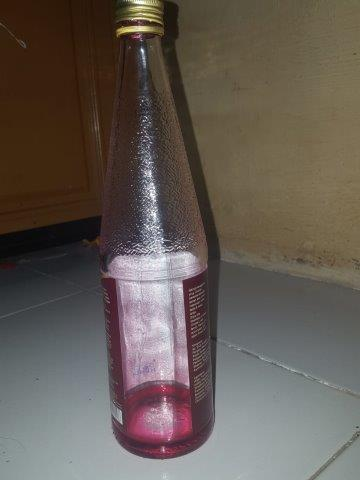botolkaca: (100, 1, 218, 461)
